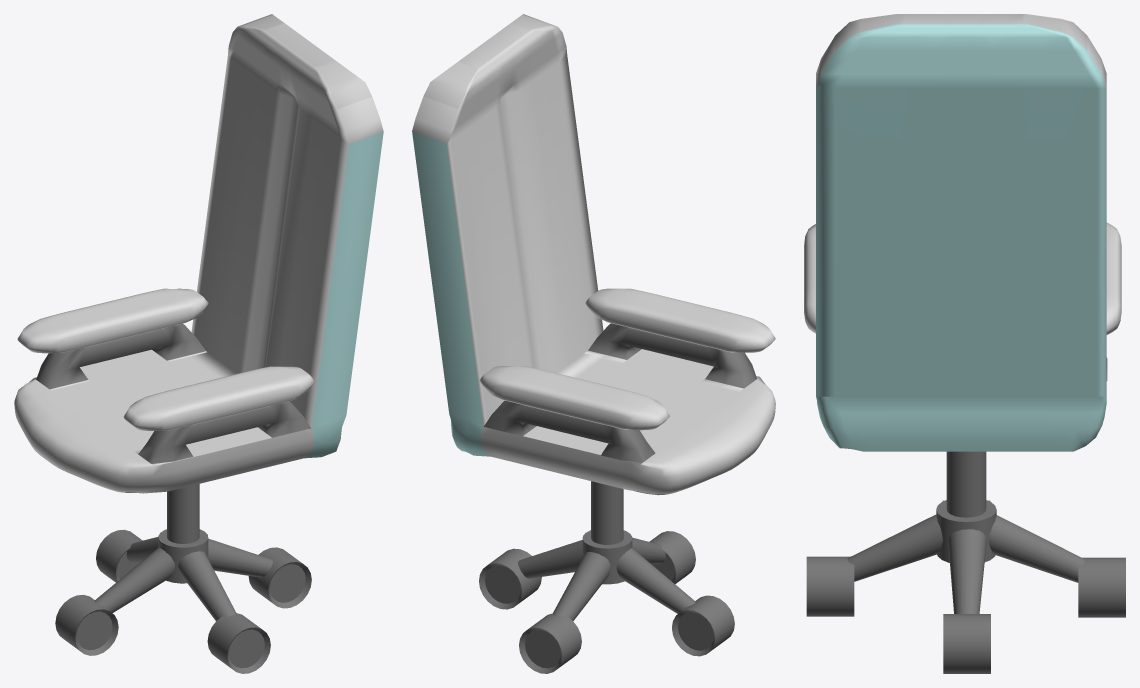
The model's file is Desk chair.fbx.
3 renders of one model, left to right at view 1: azimuth 30°, elevation 25°; view 2: azimuth 150°, elevation 25°; view 3: azimuth 270°, elevation 25°, orthographic. The views are drawn at different scales.
Visible parts, largest first — view 1: Desk_chair; view 2: Desk_chair; view 3: Desk_chair.
Boxes of the visible parts, left/top/right/bottom form: Desk_chair: left=14, top=14, right=383, bottom=673; Desk_chair: left=412, top=14, right=775, bottom=673; Desk_chair: left=804, top=14, right=1125, bottom=673.
Size of the model in its own units: 90.6 by 172 by 75.7.
